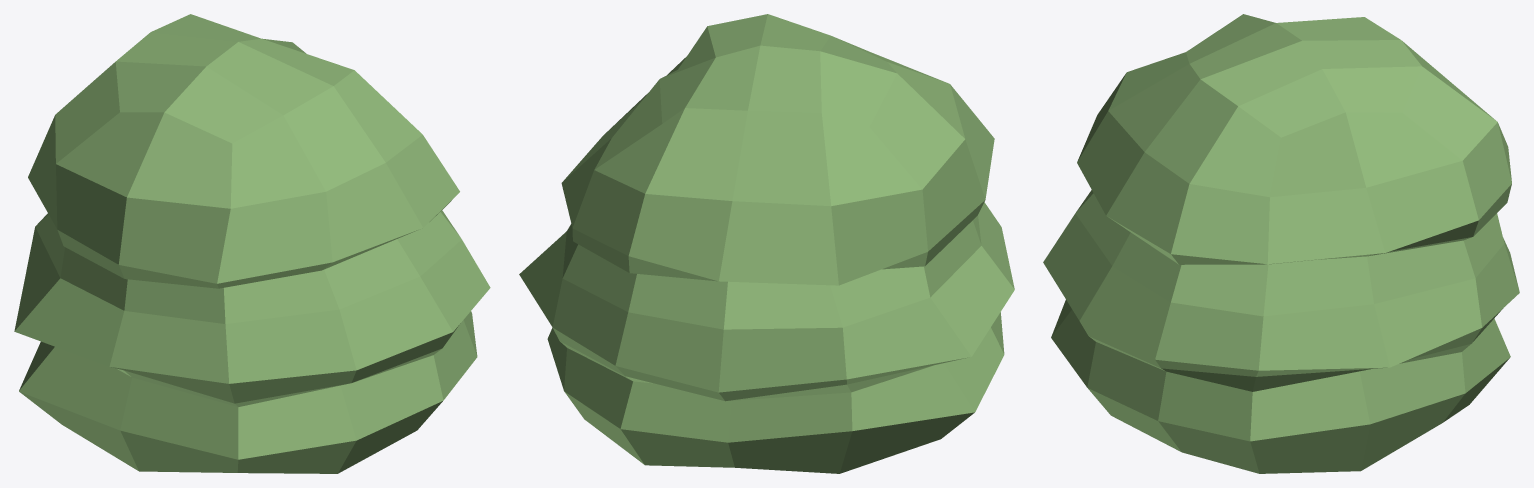
File: bush_2.glb
3 renders of one model, left to right at view 1: azimuth 30°, elevation 25°; view 2: azimuth 150°, elevation 25°; view 3: azimuth 270°, elevation 25°, orthographic. The views are drawn at different scales.
Parts seen in each view (by area): view 1: Bush_2; view 2: Bush_2; view 3: Bush_2.
Part boxes in pixels (x1=…): Bush_2: x1=14, y1=14, x2=490, y2=473; Bush_2: x1=519, y1=14, x2=1014, y2=473; Bush_2: x1=1043, y1=14, x2=1519, y2=473.
Size of the model in its own units: 1.35 by 1.11 by 1.33.
